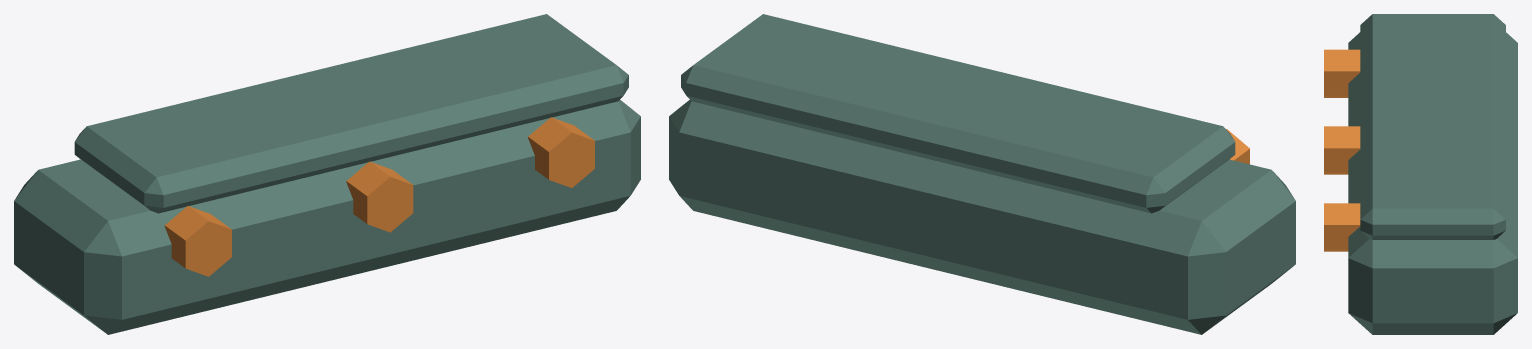
The model's file is net.glb.
The picture shows the model from 3 angles, left to right: view 1: azimuth 30°, elevation 25°; view 2: azimuth 150°, elevation 25°; view 3: azimuth 270°, elevation 25°; orthographic projection. The views are drawn at different scales.
Parts seen in each view (by area): view 1: net; view 2: net; view 3: net.
Boxes of the visible parts, <box> form: net: <box>14,14,640,334</box>; net: <box>669,14,1295,334</box>; net: <box>1324,14,1517,334</box>.
Bounding box in the file's own units: 0.46 × 0.115 × 0.16.
